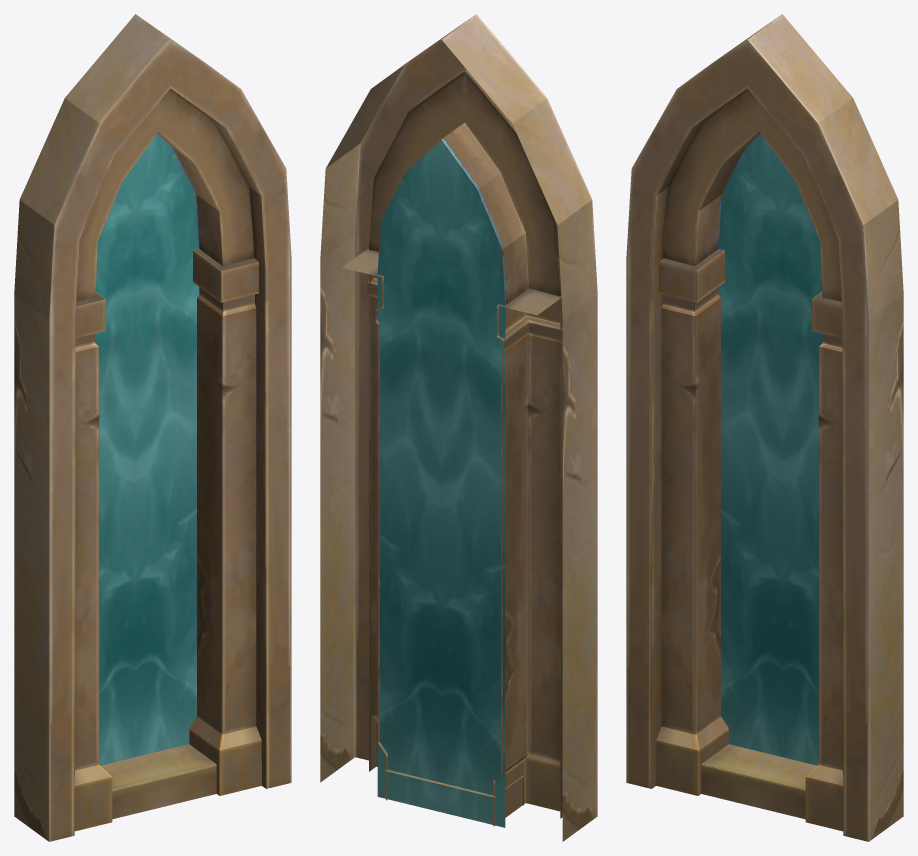
File: G_baishe001.fbx
The picture shows the model from 3 angles, left to right: view 1: azimuth 30°, elevation 25°; view 2: azimuth 150°, elevation 25°; view 3: azimuth 330°, elevation 25°; orthographic projection.
Parts seen in each view (by area): view 1: G_baishe001; view 2: G_baishe001; view 3: G_baishe001.
Boxes of the visible parts, box(x1,y1,x2,y2) form: G_baishe001: box(14, 14, 291, 841); G_baishe001: box(320, 14, 597, 841); G_baishe001: box(626, 14, 903, 841).
Bounding box in the file's own units: 96.32 × 293 × 25.39.
